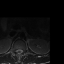CCS_normal: (18, 47, 20, 55)
LFS_normal: (23, 48, 25, 54)
LLS_normal: (20, 48, 23, 54)
RFS_normal: (13, 49, 16, 53)
RLS_normal: (16, 48, 18, 54)
